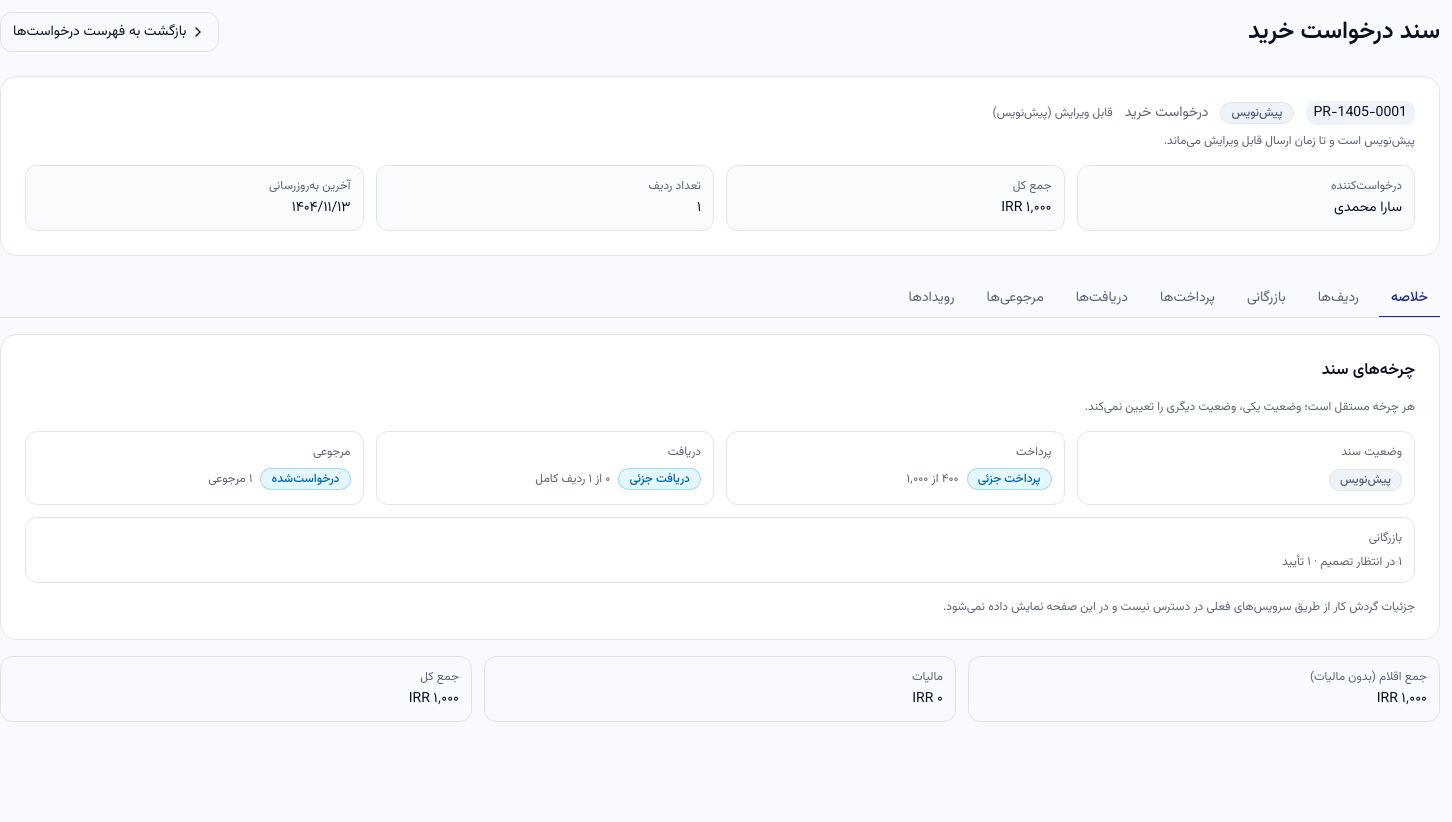
it: CommercePurchaseDetailView › lets the reader switch tabs and keeps aria-selected honest
Expected: the element with test id "commerce-detail-identity" is shown, [0,76,1440,256]
Click the tab with test id "commerce-detail-tab-returns": (1015, 299) [974,280,1056,318]
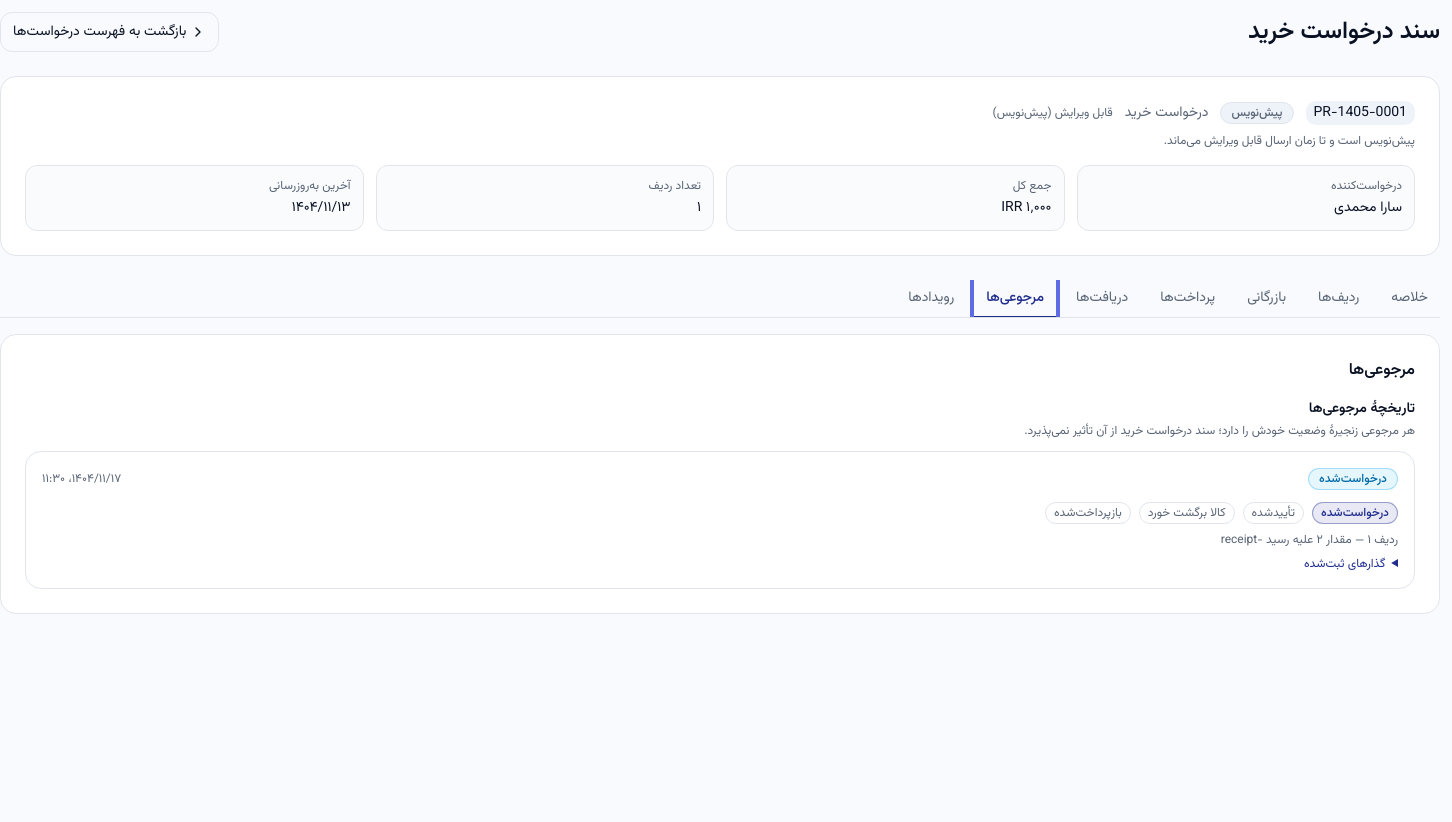
Now the list with test id "commerce-returns-history" is shown, box [25,451,1415,589]
